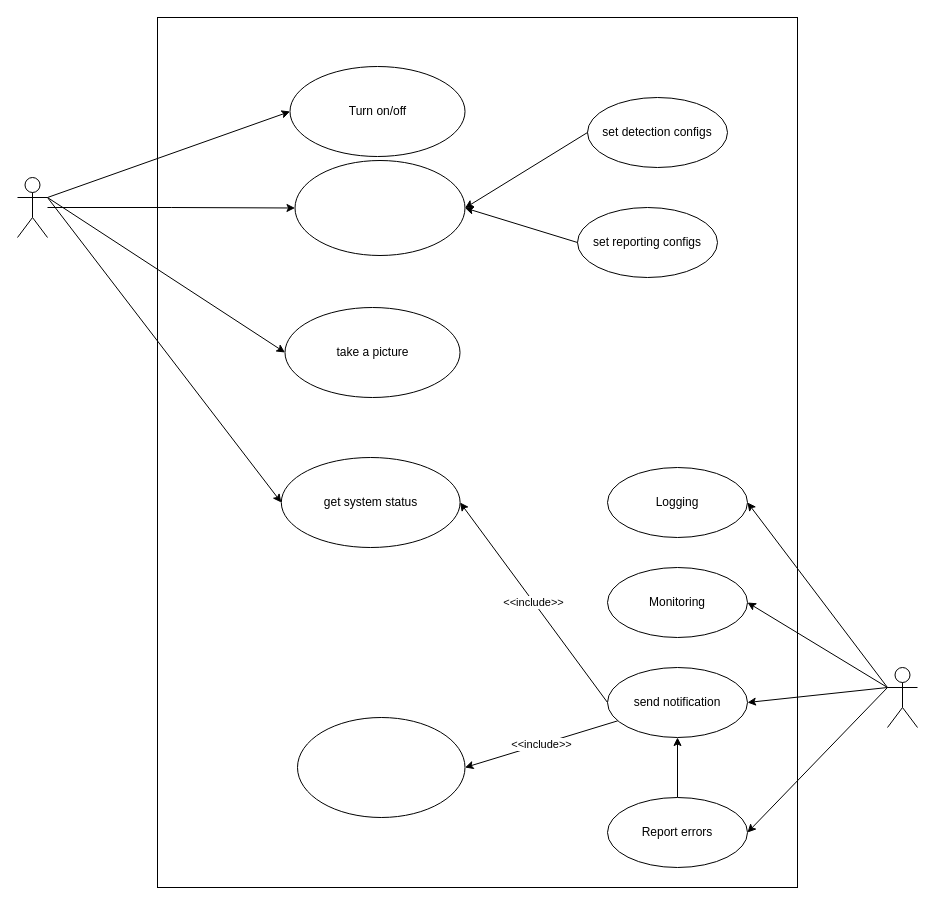
This 939x905 diagram has some shape labels left out. The shapes that lost their labels are listed below. From the top down, each one's centre as x and y in pixels, then its label:
(x=32, y=207): user
(x=379, y=208): set parameters
(x=902, y=697): system
(x=380, y=767): get detected result
